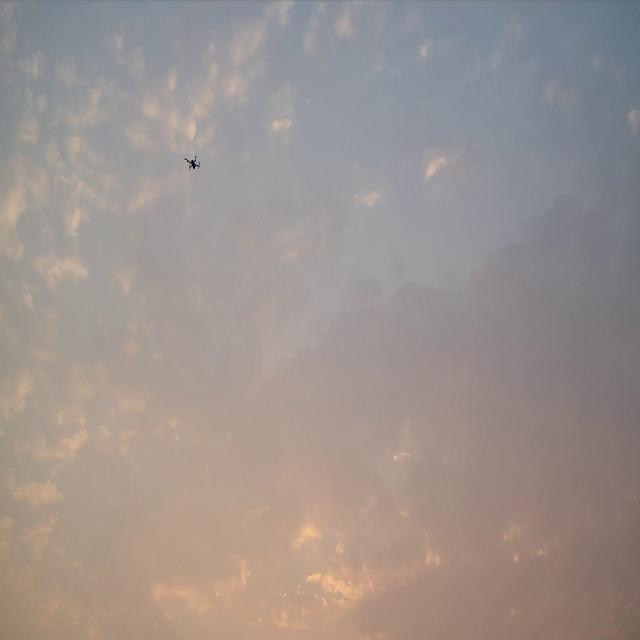UAV: (184, 155, 200, 170)
